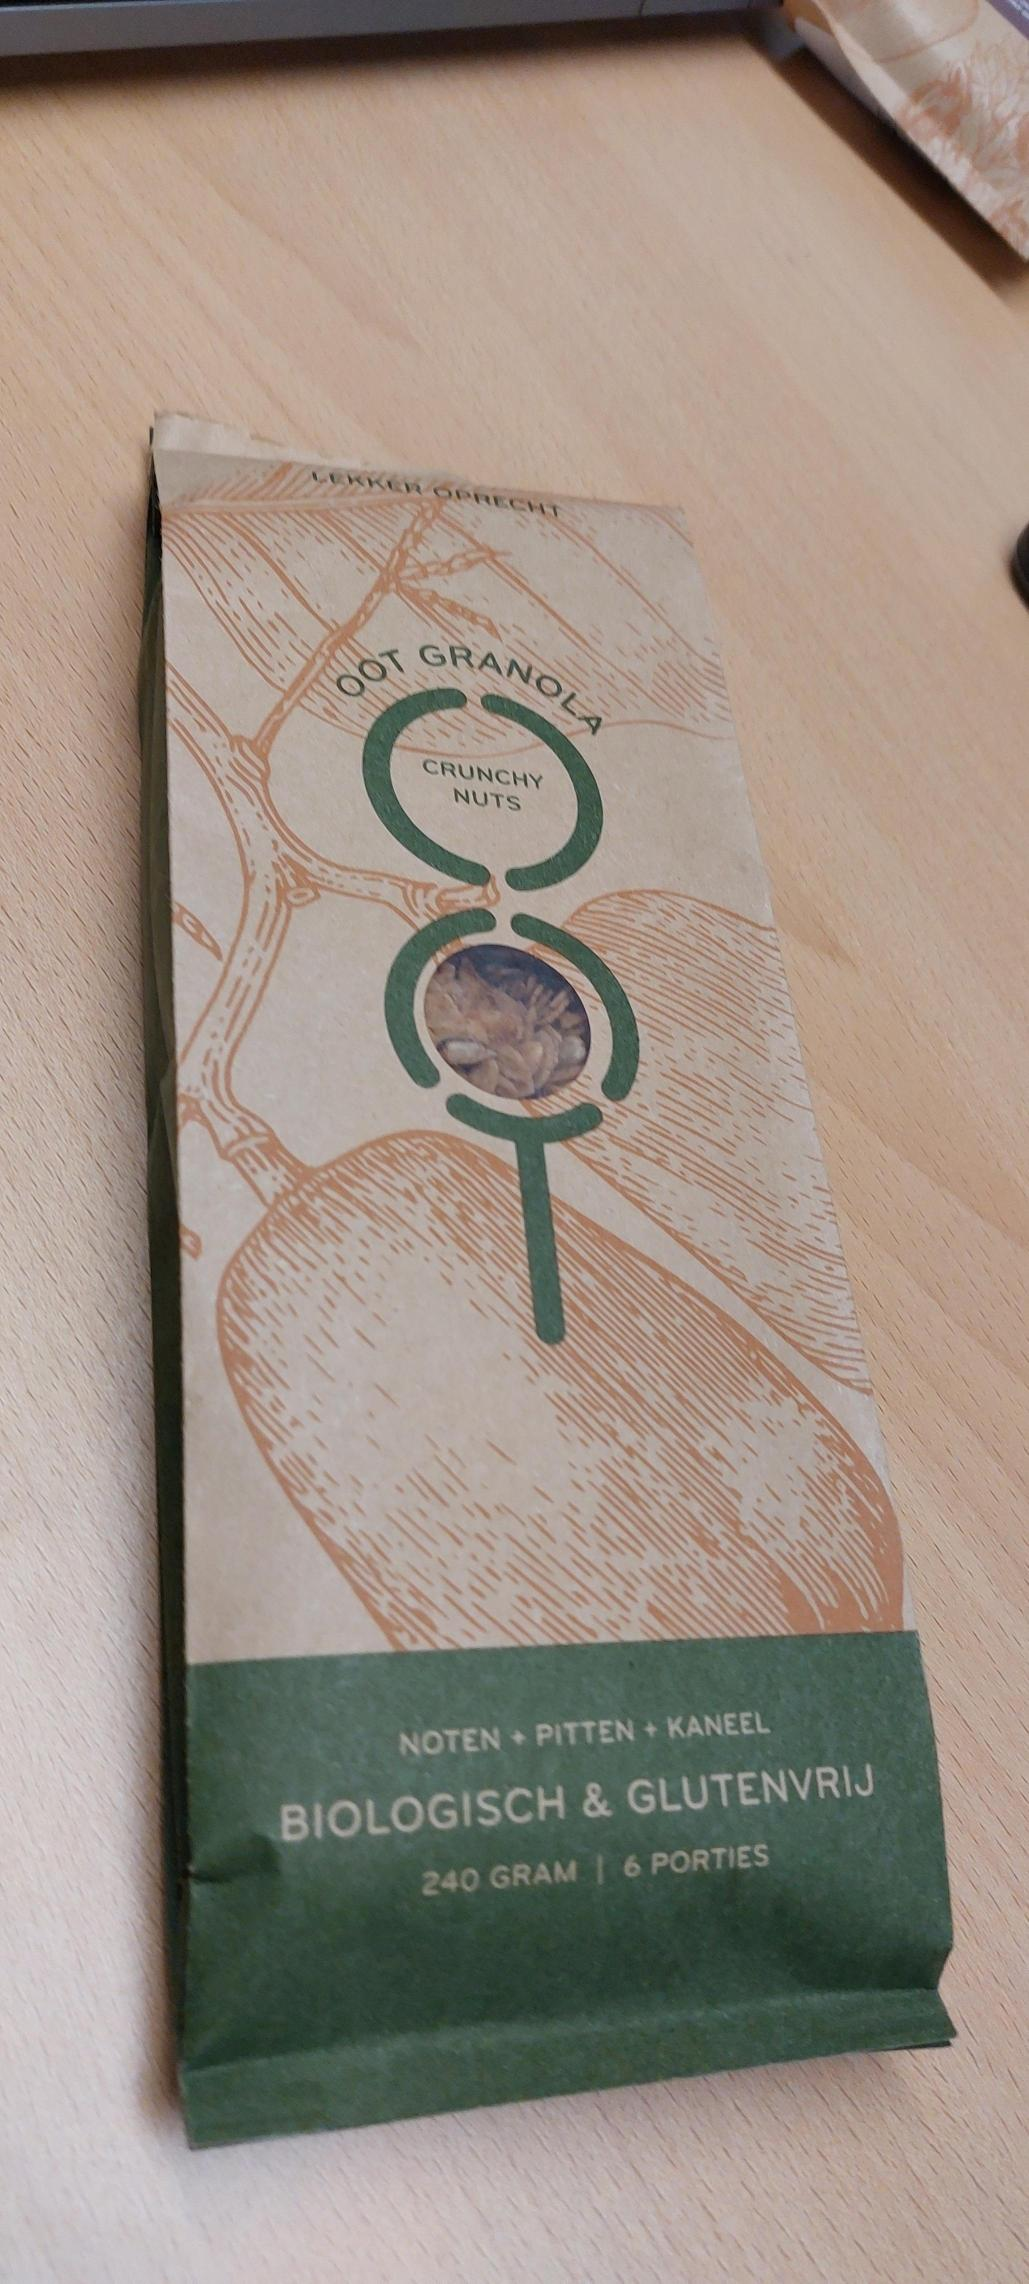CrunchyNuts: (211, 597, 895, 2022)
